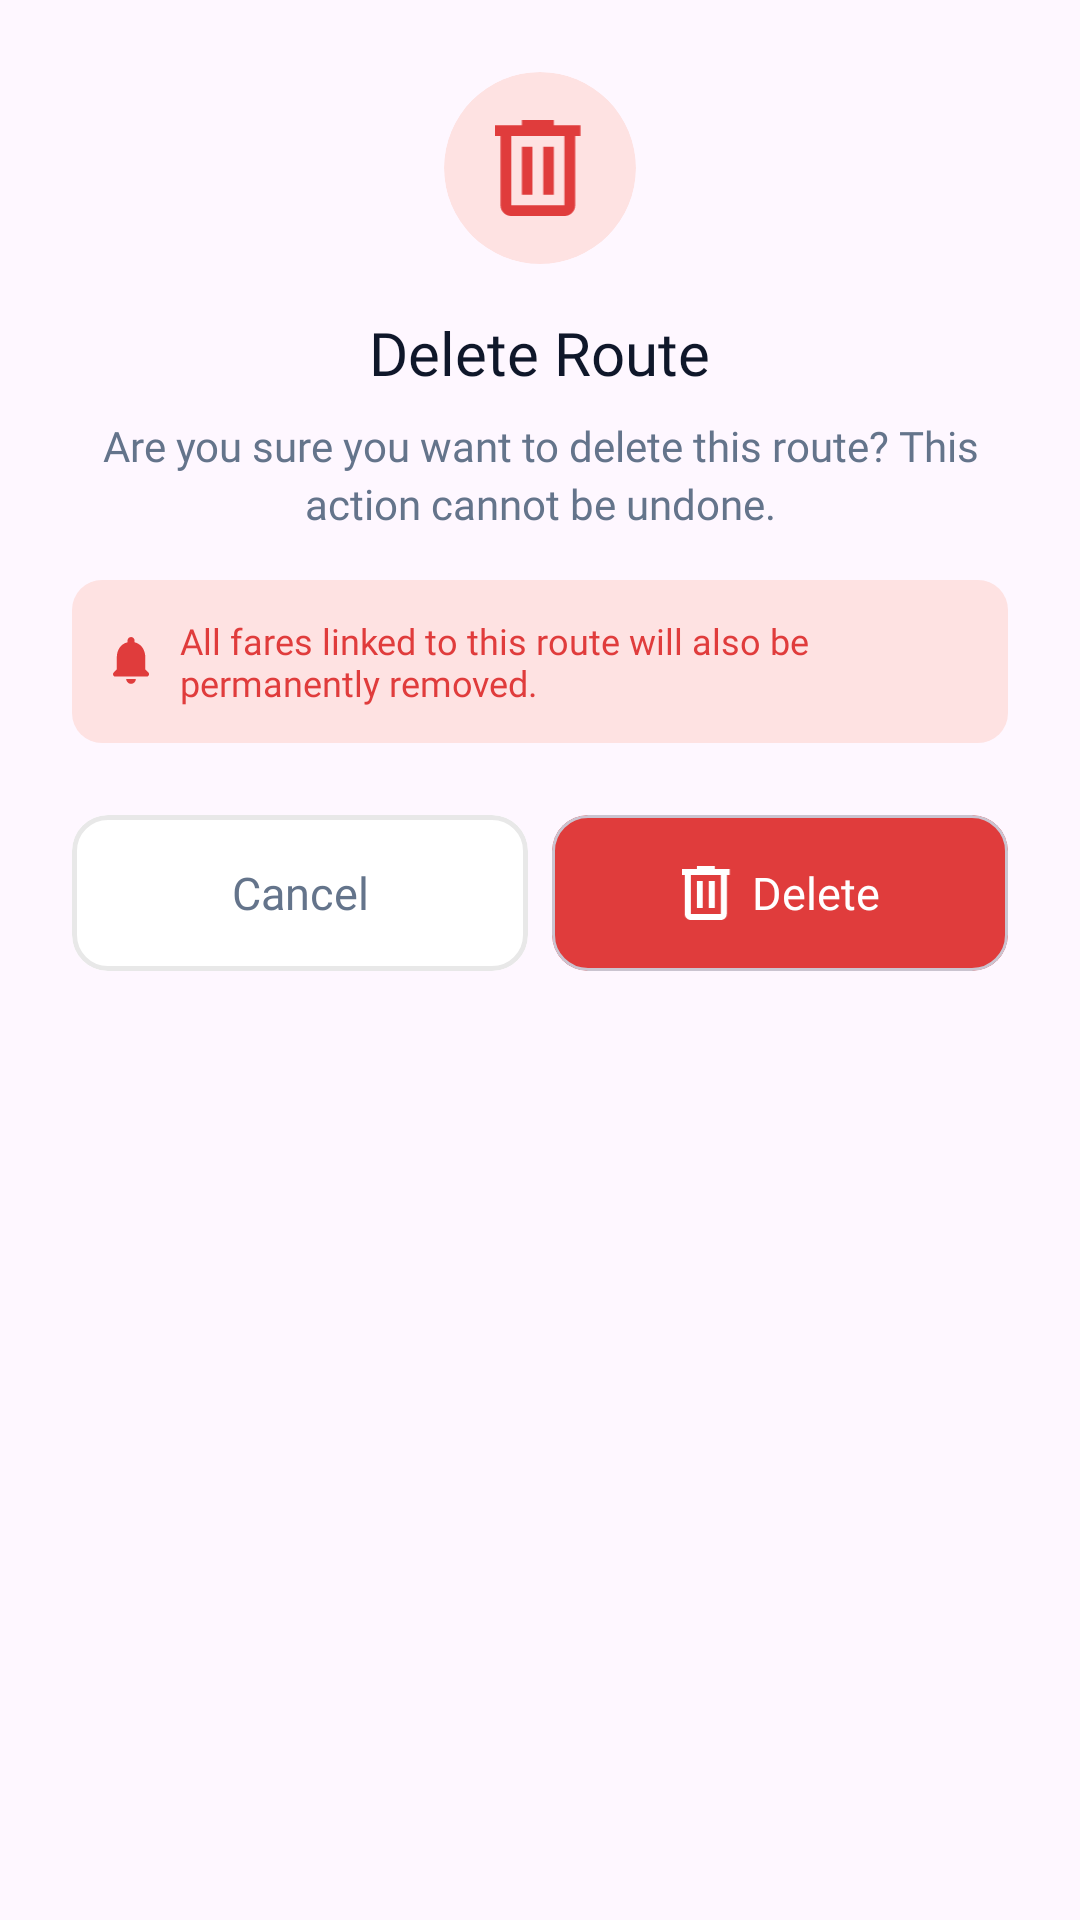

Where to tap for icons on this 1080px×1920px app screen, as point (x, y):
notifications: point (131, 660)
